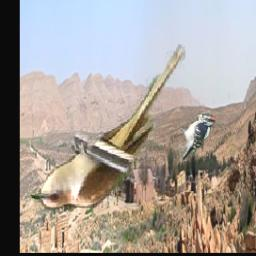Cuckoo: (29, 45, 186, 212)
Woodpecker: (180, 111, 216, 161)
